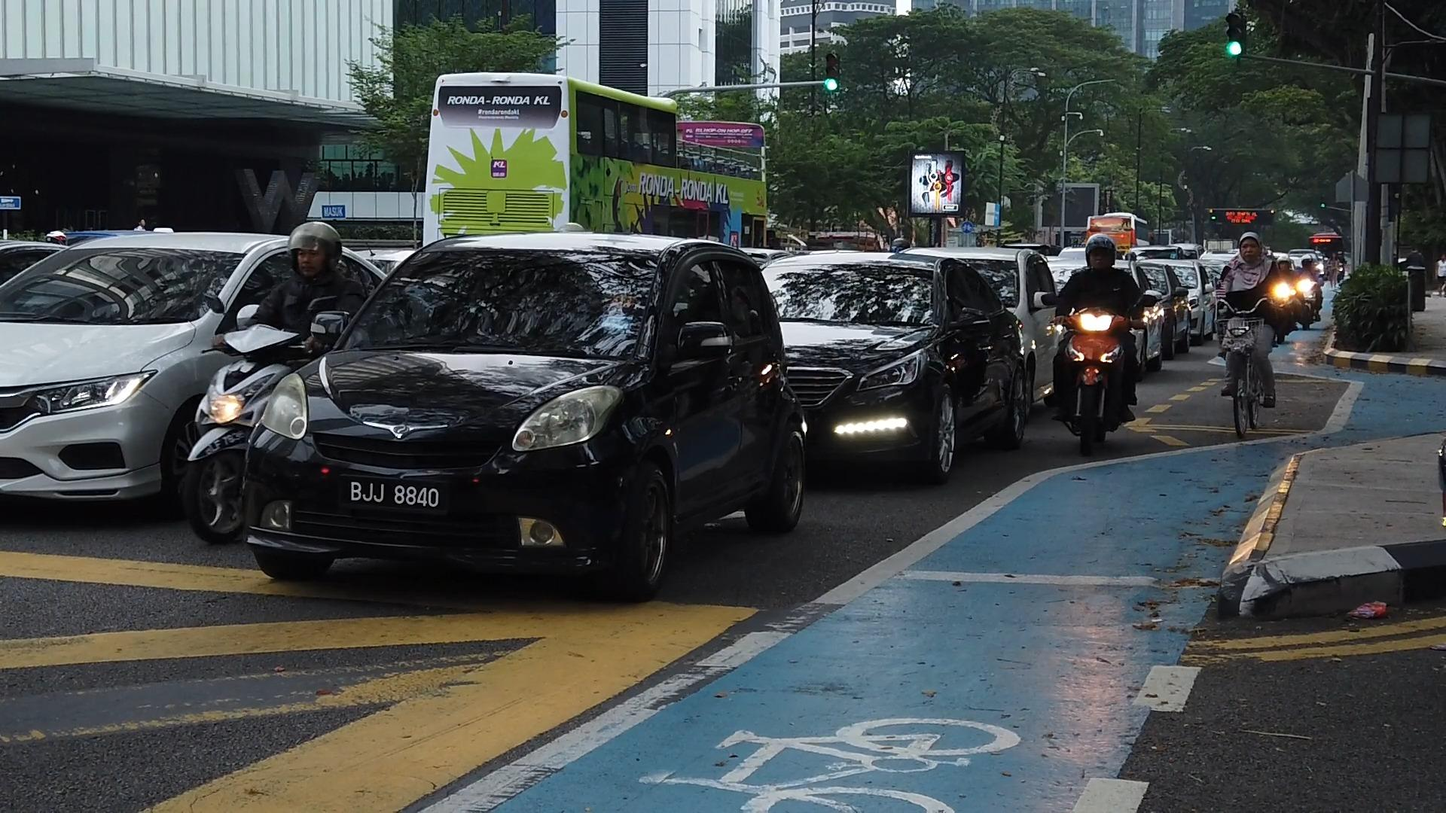bicyclist: (1210, 231, 1287, 441)
driver: (183, 221, 367, 546), (1040, 233, 1157, 456)
helmet: (287, 221, 342, 279), (1085, 234, 1117, 270)
no-helmet: (1239, 231, 1261, 263)
